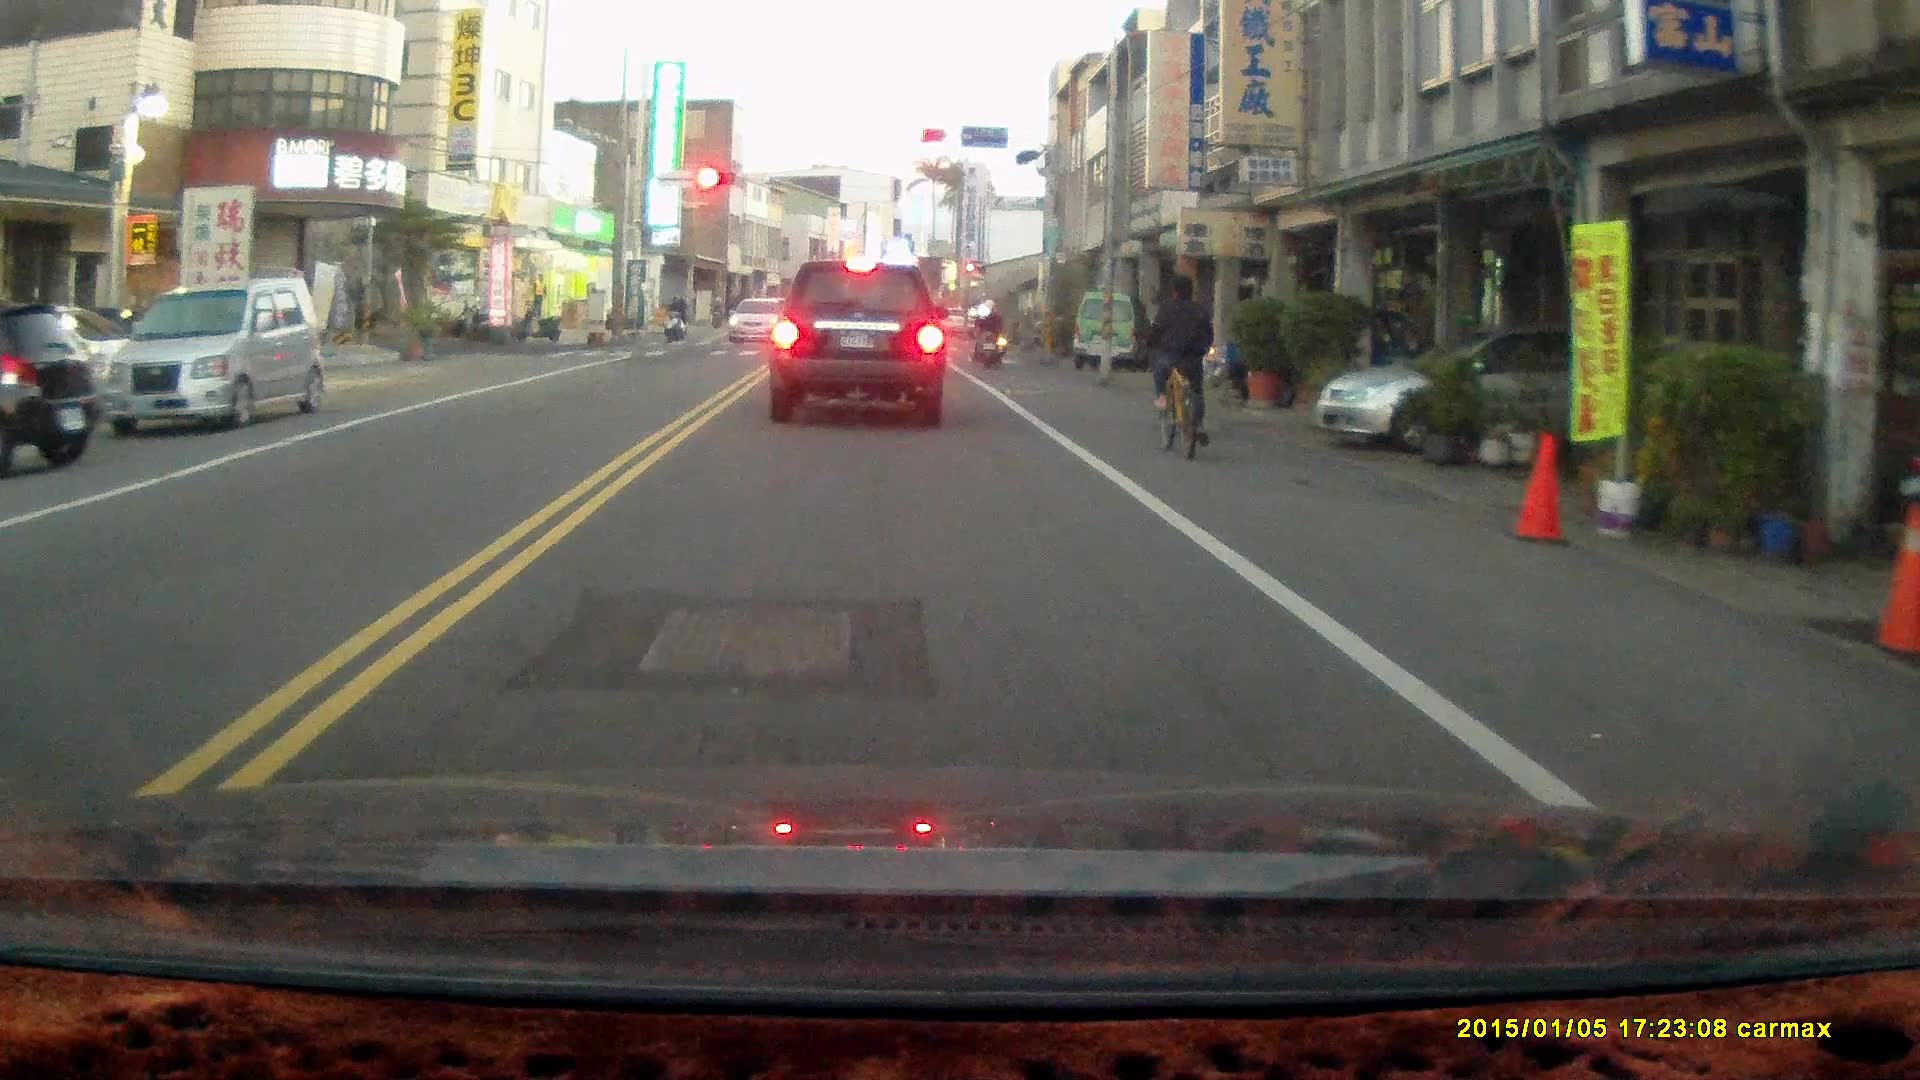pedestrian: (528, 271, 548, 318)
rider: (1144, 269, 1215, 458), (971, 295, 1009, 368), (661, 293, 688, 344)
vehicle: (1317, 318, 1698, 447), (90, 275, 331, 439), (765, 257, 951, 431), (1, 294, 102, 479), (1073, 290, 1151, 370)
